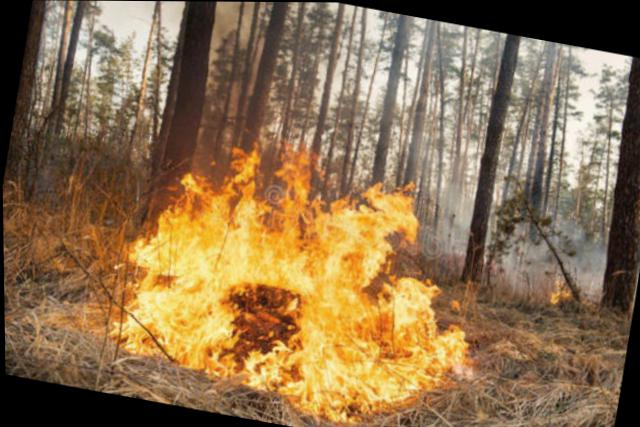fire: (89, 114, 497, 424)
